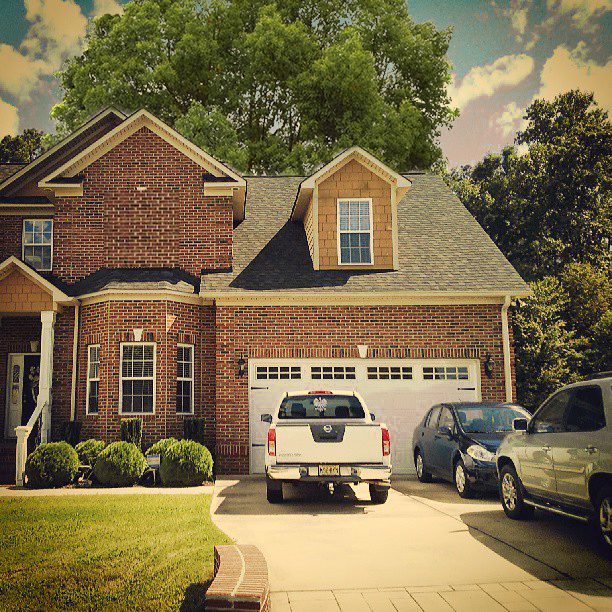removal: (112, 179, 180, 268)
spliced: (52, 1, 454, 177)
